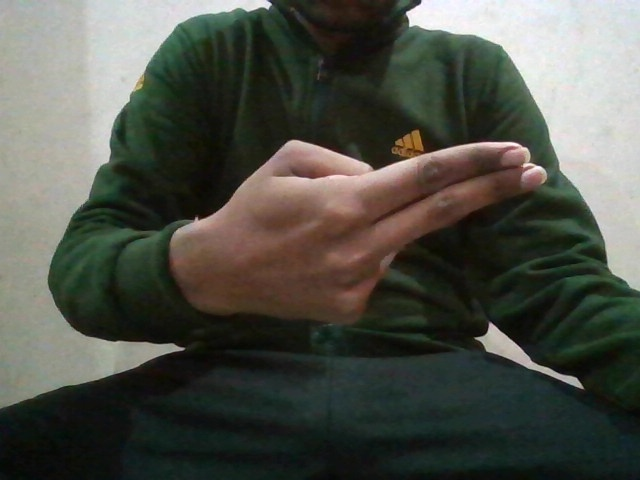H: (208, 135, 553, 331)
